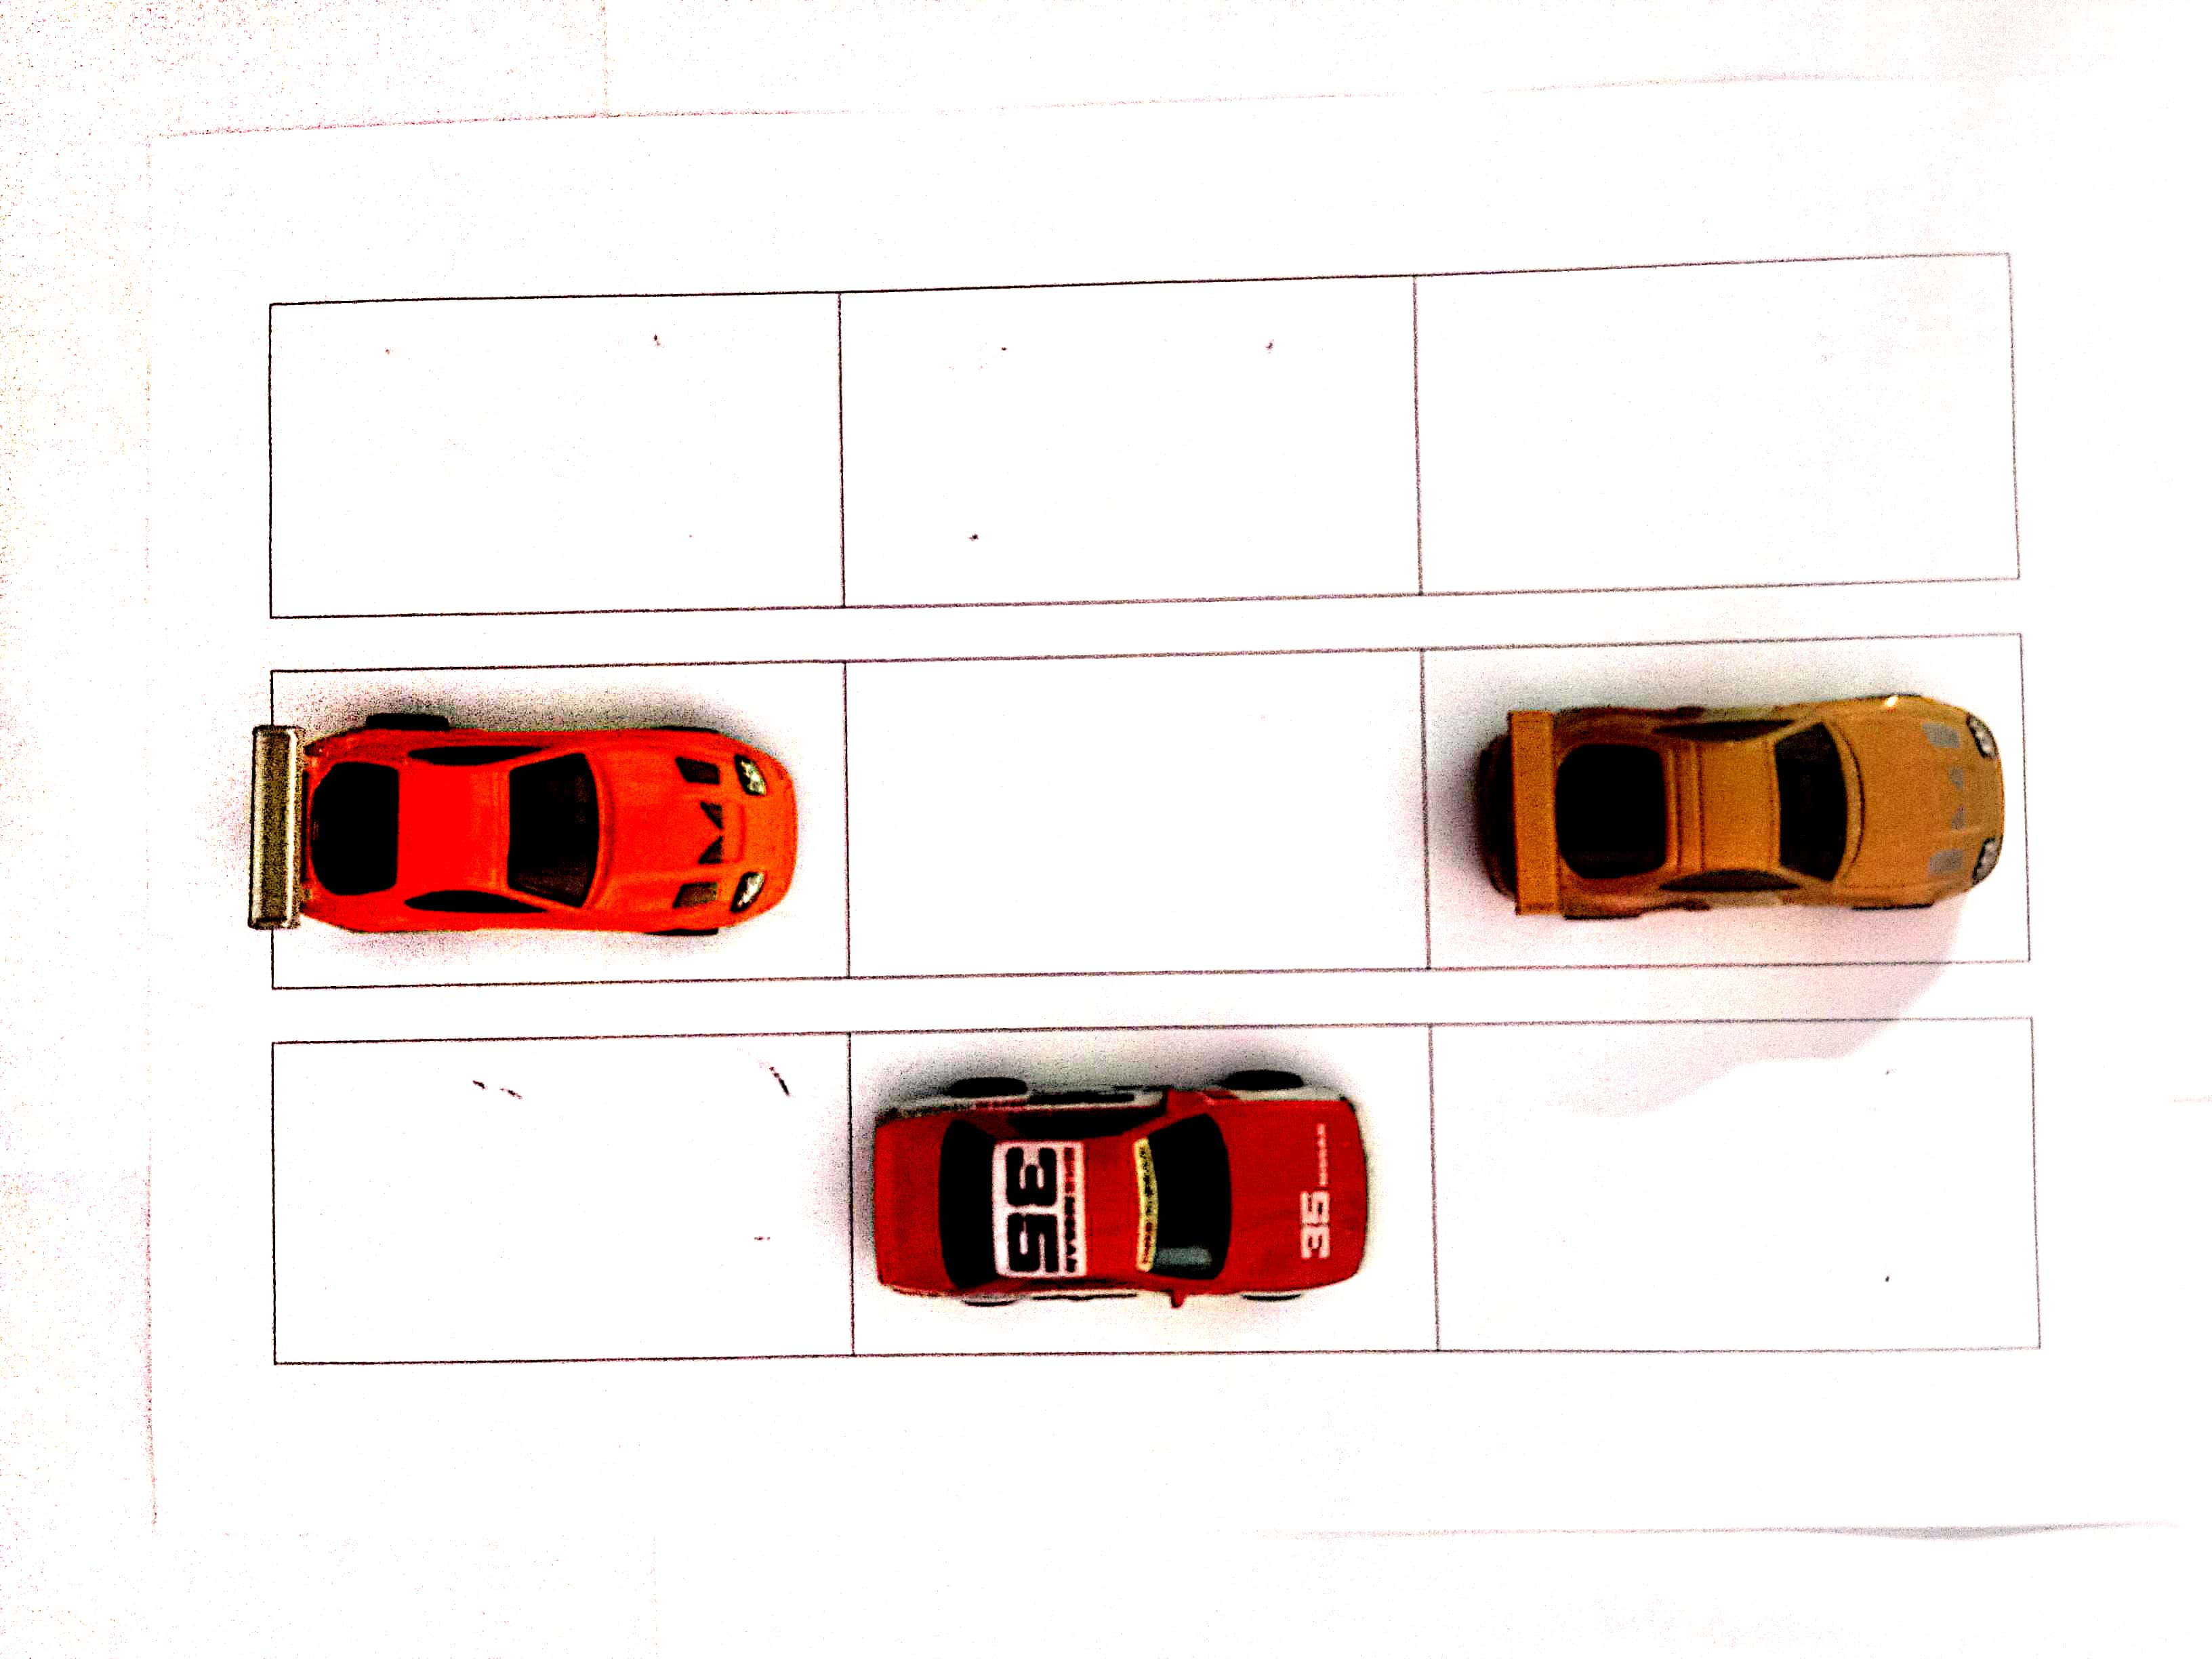Busy: (1425, 633, 2020, 962), (848, 1026, 1433, 1358), (268, 662, 845, 976)
Free: (270, 1035, 848, 1363), (1446, 1019, 2033, 1342), (261, 293, 836, 615), (848, 284, 1420, 603), (1432, 267, 2003, 586), (853, 650, 1416, 967)
